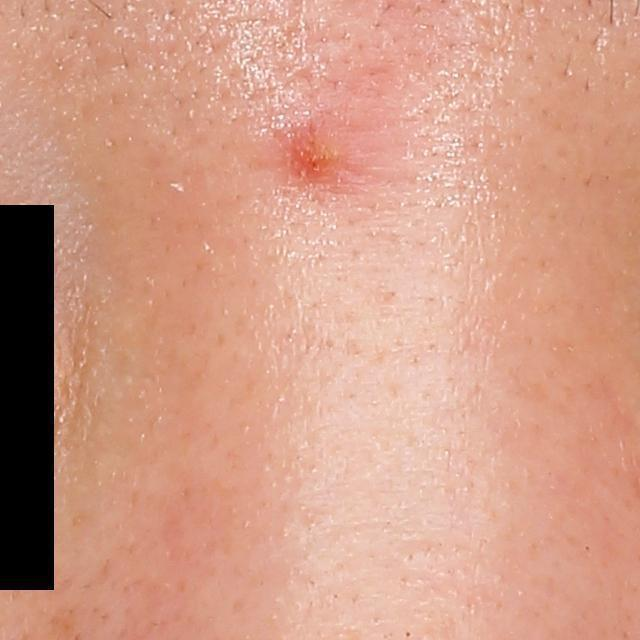papule: (278, 114, 347, 177)
